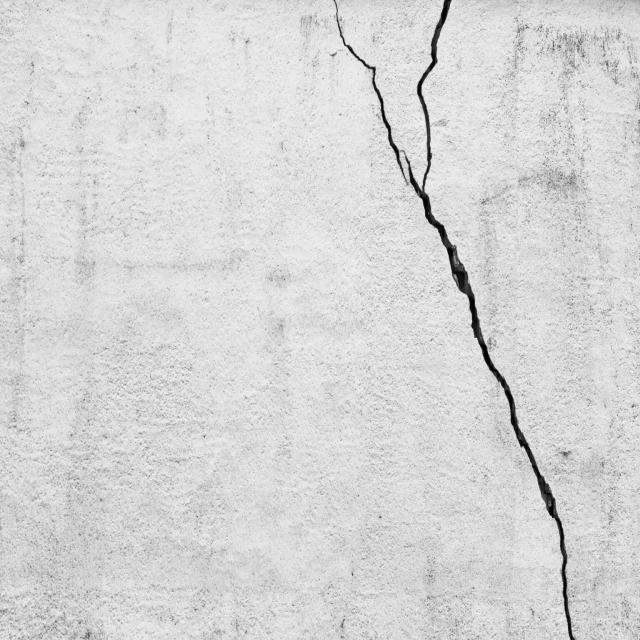Wall_Cracks: (288, 1, 598, 640)
